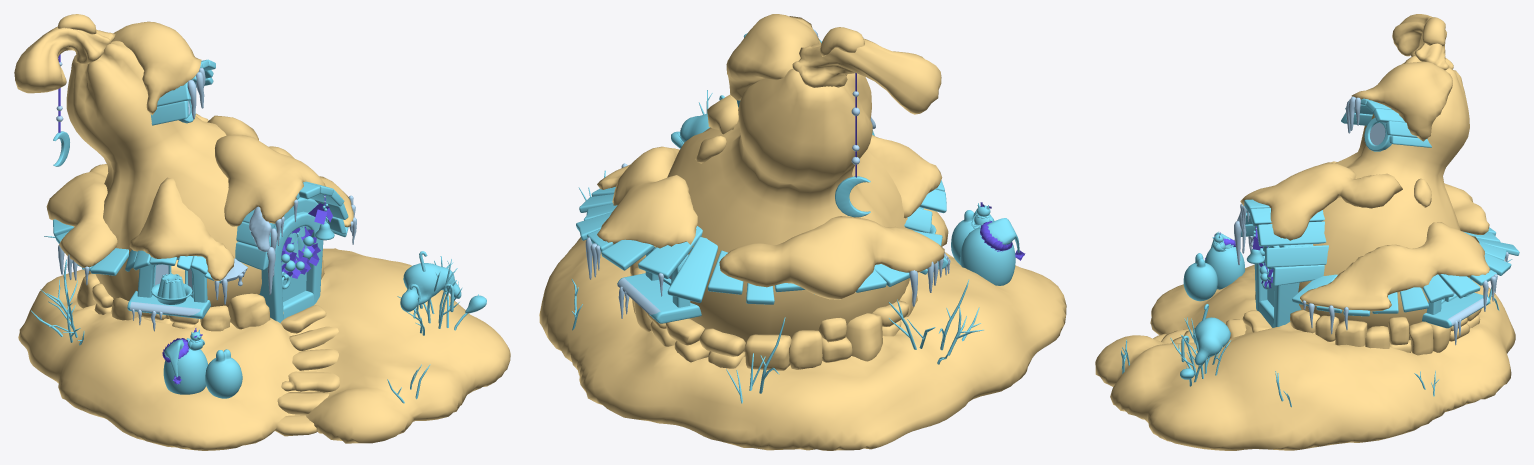
Rendered from Pumpkin all scene5.fbx.
3 renders of one model, left to right at view 1: azimuth 30°, elevation 25°; view 2: azimuth 150°, elevation 25°; view 3: azimuth 270°, elevation 25°, orthographic. The views are drawn at different scales.
Visible parts, largest first — view 1: Ground_L, Snow_L, pumpkin_L, StonesA_L, Tail_L, StonesB_L, Dver (×2), snowman, Zai2, Zai1, StonesC_L, Okno (+8 smaller); view 2: Ground_L, pumpkin_L, Snow_L, Tail_L, StonesC_L, StonesA_L, Zai2, Krysha109, casement window011, StonesB_L, Krysha108, Krysha107 (+9 smaller); view 3: Ground_L, Snow_L, pumpkin_L, StonesA_L, Tail_L, StonesB_L, snowman, Dver, Krysha6, Zai1, Zai2, Krysha5 (+9 smaller).
Boxes of the visible parts, x1=… form: Ground_L: x1=18, y1=248, x2=510, y2=450; Snow_L: x1=46, y1=14, x2=353, y2=280; pumpkin_L: x1=66, y1=40, x2=261, y2=318; StonesA_L: x1=88, y1=263, x2=339, y2=436; Tail_L: x1=14, y1=26, x2=115, y2=93; StonesB_L: x1=94, y1=256, x2=338, y2=414; Dver (×2): x1=259, y1=211, x2=323, y2=323; snowman: x1=400, y1=263, x2=486, y2=313; Zai2: x1=163, y1=348, x2=207, y2=394; Zai1: x1=205, y1=349, x2=242, y2=398; StonesC_L: x1=76, y1=273, x2=195, y2=328; Okno: x1=137, y1=257, x2=207, y2=302; Ground_L: x1=539, y1=208, x2=1066, y2=450; pumpkin_L: x1=667, y1=43, x2=914, y2=351; Snow_L: x1=597, y1=14, x2=944, y2=299; Tail_L: x1=792, y1=38, x2=941, y2=114; StonesC_L: x1=633, y1=279, x2=917, y2=369; StonesA_L: x1=632, y1=252, x2=952, y2=370; Zai2: x1=960, y1=228, x2=1015, y2=285; Krysha109: x1=667, y1=237, x2=717, y2=302; casement window011: x1=617, y1=273, x2=701, y2=323; StonesB_L: x1=647, y1=313, x2=901, y2=362; Krysha108: x1=638, y1=226, x2=702, y2=278; Krysha107: x1=601, y1=239, x2=654, y2=270; Ground_L: x1=1095, y1=264, x2=1515, y2=450; Snow_L: x1=1240, y1=17, x2=1490, y2=311; pumpkin_L: x1=1298, y1=56, x2=1469, y2=340; StonesA_L: x1=1153, y1=292, x2=1481, y2=355; Tail_L: x1=1392, y1=14, x2=1453, y2=70; StonesB_L: x1=1161, y1=310, x2=1480, y2=352; snowman: x1=1180, y1=317, x2=1230, y2=379; Dver: x1=1254, y1=245, x2=1301, y2=327; Krysha6: x1=1264, y1=245, x2=1328, y2=267; Zai1: x1=1183, y1=253, x2=1217, y2=301; Zai2: x1=1205, y1=247, x2=1245, y2=289; Krysha5: x1=1257, y1=221, x2=1326, y2=246.
Bounding box in the file's own units: 303 × 247 × 319.
